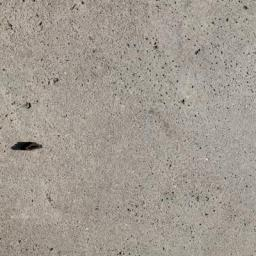FOD: (11, 134, 50, 157)
